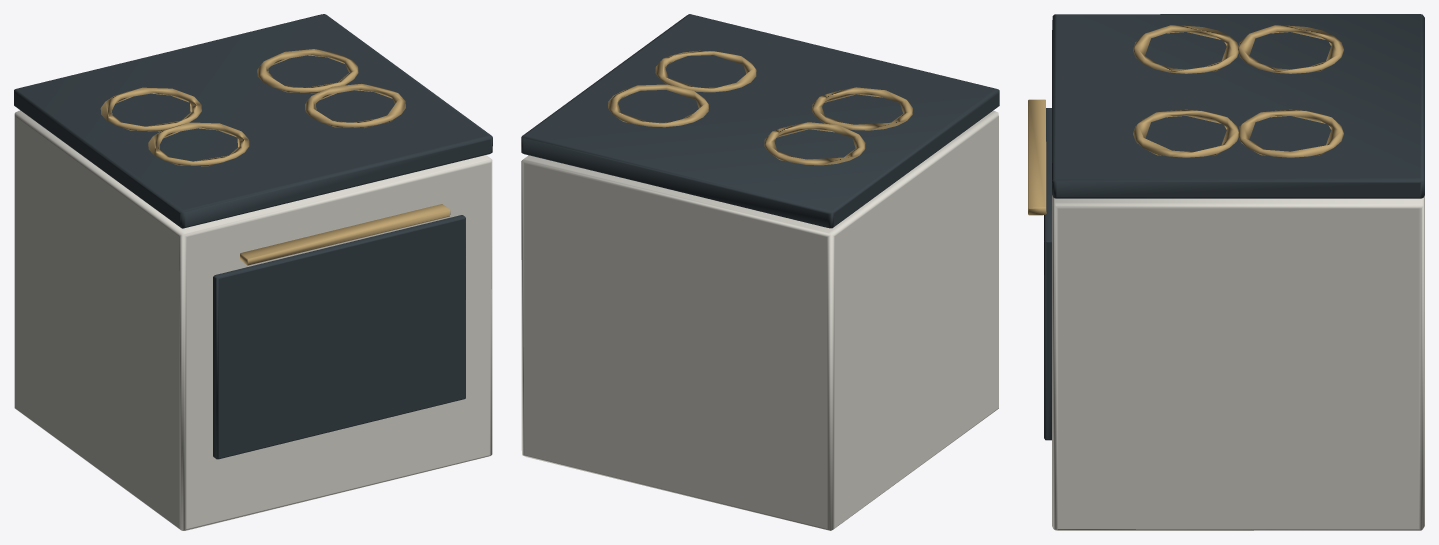
File: stove-8-0.lod.glb
The picture shows the model from 3 angles, left to right: view 1: azimuth 30°, elevation 25°; view 2: azimuth 150°, elevation 25°; view 3: azimuth 270°, elevation 25°; orthographic projection. The views are drawn at different scales.
Parts seen in each view (by area): view 1: upholstery (×2), part; view 2: upholstery (×2), part; view 3: upholstery (×2), part.
Part boxes in pixels (x1=…): upholstery (×2): x1=14, y1=14, x2=492, y2=530; part: x1=100, y1=49, x2=450, y2=265; upholstery (×2): x1=521, y1=14, x2=999, y2=530; part: x1=608, y1=50, x2=912, y2=165; upholstery (×2): x1=1044, y1=14, x2=1424, y2=530; part: x1=1028, y1=25, x2=1343, y2=215.
Bounding box in the file's own units: 1 × 1 × 1.
